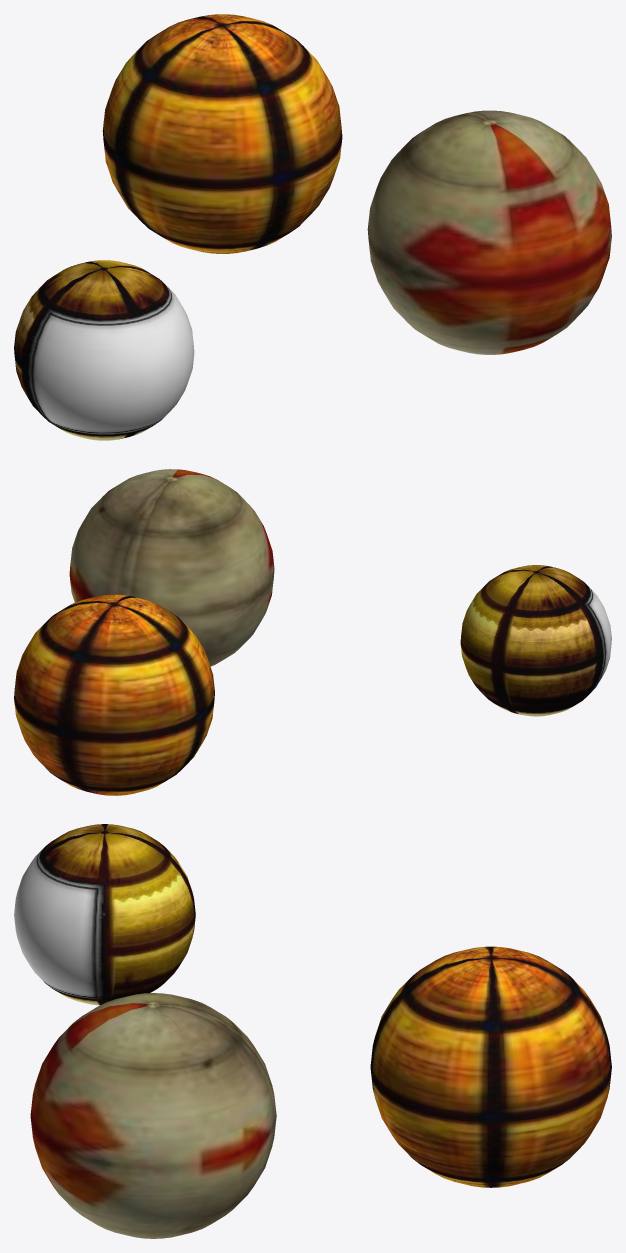
Rendered from spheres.obj.
3 views of the same model, one above another, from view 1: azimuth 30°, elevation 25°; view 2: azimuth 150°, elevation 25°; view 3: azimuth 270°, elevation 25° (orthographic). The views are drawn at different scales.
Visible parts, largest first — view 1: Sphere01, Sphere02, Sphere03; view 2: Sphere02, Sphere01, Sphere03; view 3: Sphere01, Sphere02, Sphere03.
Part boxes in pixels (<box>): Sphere01: <box>367,110,611,354</box>; Sphere02: <box>102,14,342,253</box>; Sphere03: <box>14,260,194,440</box>; Sphere02: <box>14,594,214,795</box>; Sphere01: <box>69,469,274,666</box>; Sphere03: <box>460,565,611,716</box>; Sphere01: <box>30,993,276,1238</box>; Sphere02: <box>370,946,611,1187</box>; Sphere03: <box>14,824,195,1005</box>.
Bounding box in the file's own units: 74.45 × 26.57 × 64.54.
3 materials, 3 textured.
